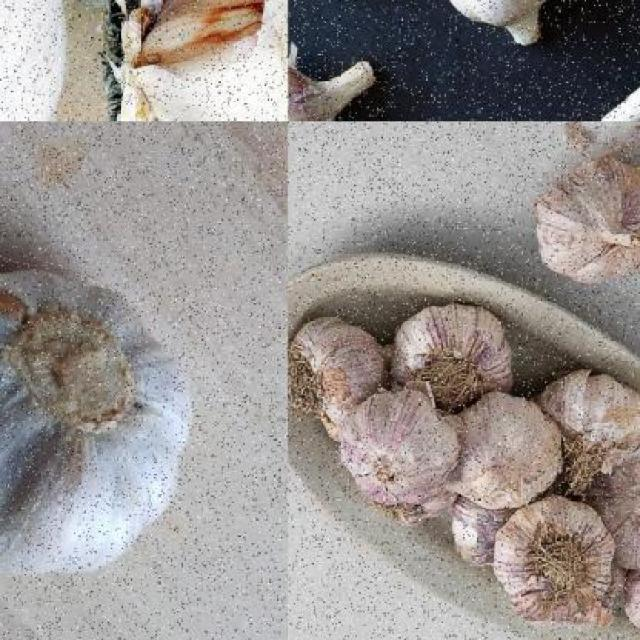garlic: (0, 260, 198, 576), (101, 0, 287, 120), (496, 497, 615, 628), (392, 294, 514, 410), (445, 394, 561, 511), (534, 157, 638, 286), (348, 391, 457, 506), (532, 370, 640, 476), (288, 317, 387, 425), (0, 0, 68, 120), (576, 448, 639, 570), (582, 0, 640, 120), (288, 44, 379, 120), (436, 0, 576, 49)
